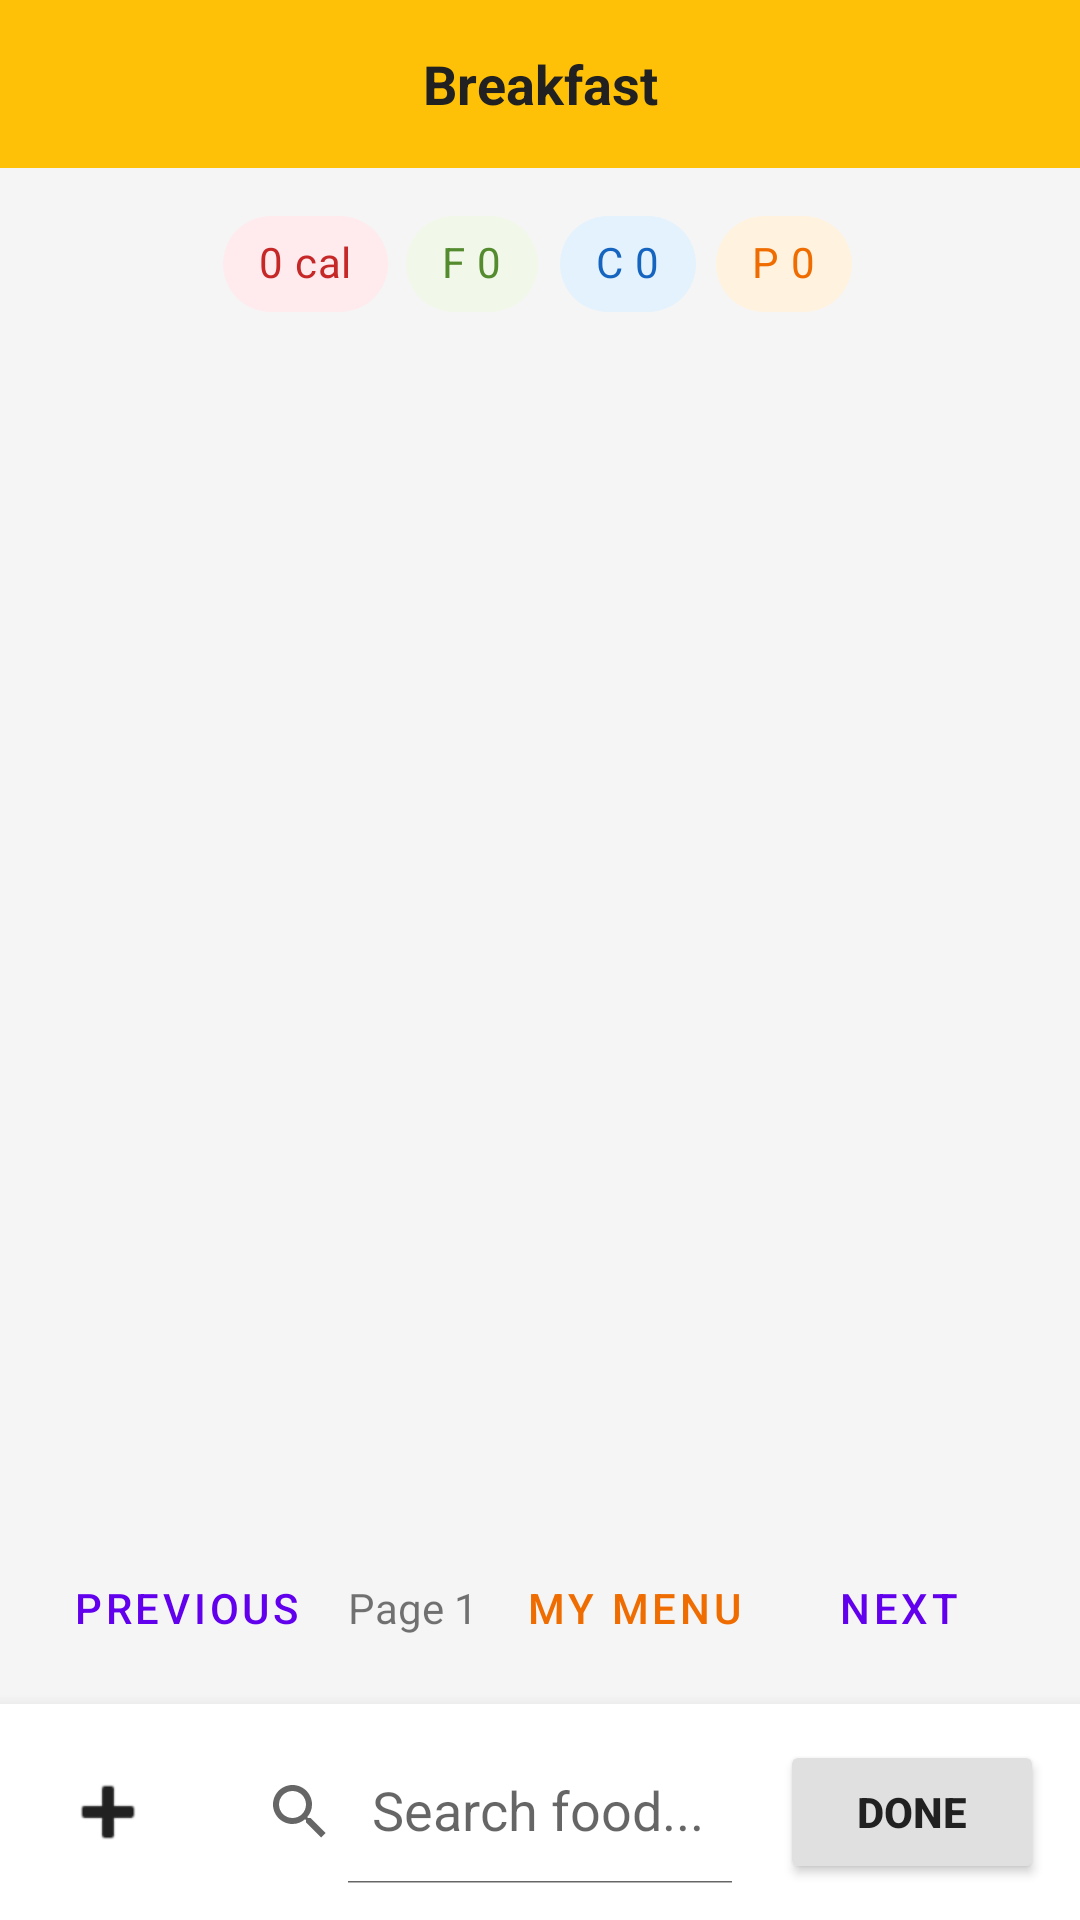

Icons on this 1080px x 1920px Android screen, each with the point to tap as point (x, y):
Add New Menu: point (108, 1812)
